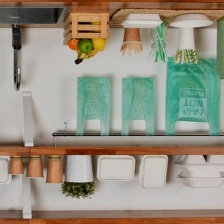plastic_bag: (162, 52, 223, 140), (72, 70, 114, 139), (117, 71, 158, 138)
